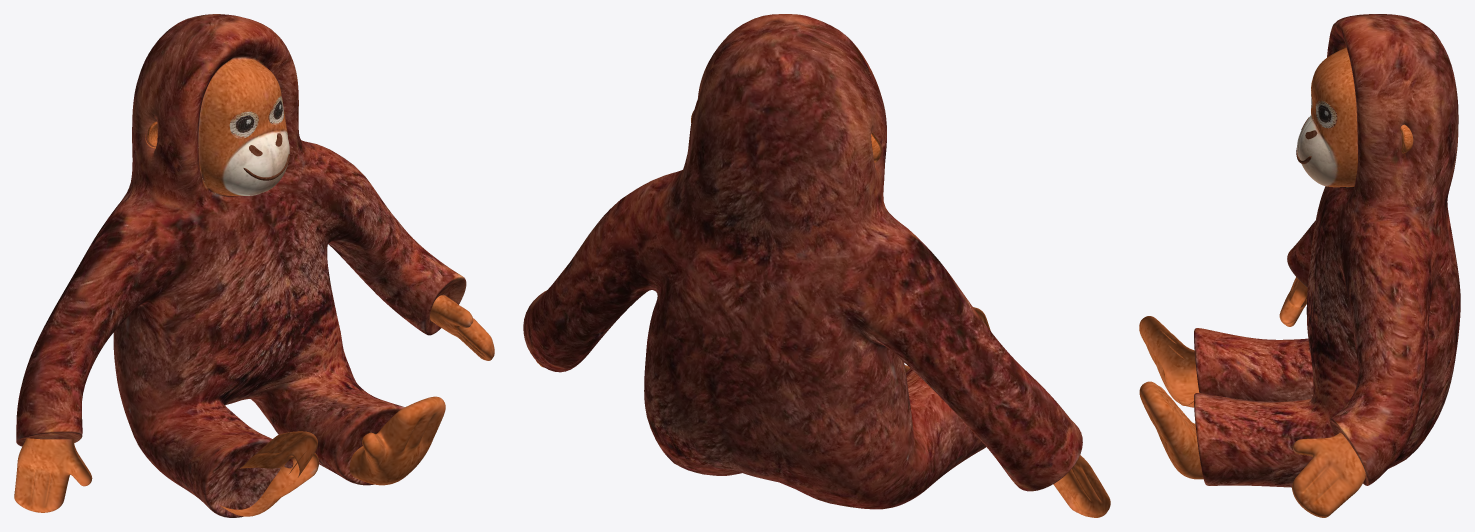
File: djungelskog_pluszak_20606102.glb
3 views of the same model, side by side, from view 1: azimuth 30°, elevation 25°; view 2: azimuth 150°, elevation 25°; view 3: azimuth 270°, elevation 25° (orthographic). The views are drawn at different scales.
Visible parts, largest first — view 1: djungelskog_pluszak_20606102; view 2: djungelskog_pluszak_20606102; view 3: djungelskog_pluszak_20606102.
Boxes of the visible parts, left/top/right/bottom form: djungelskog_pluszak_20606102: left=14, top=14, right=494, bottom=517; djungelskog_pluszak_20606102: left=523, top=14, right=1110, bottom=517; djungelskog_pluszak_20606102: left=1139, top=14, right=1460, bottom=517.
Size of the model in its own units: 0.1819 by 0.1512 by 0.1028.
Materials: 5 (5 with a texture image).
